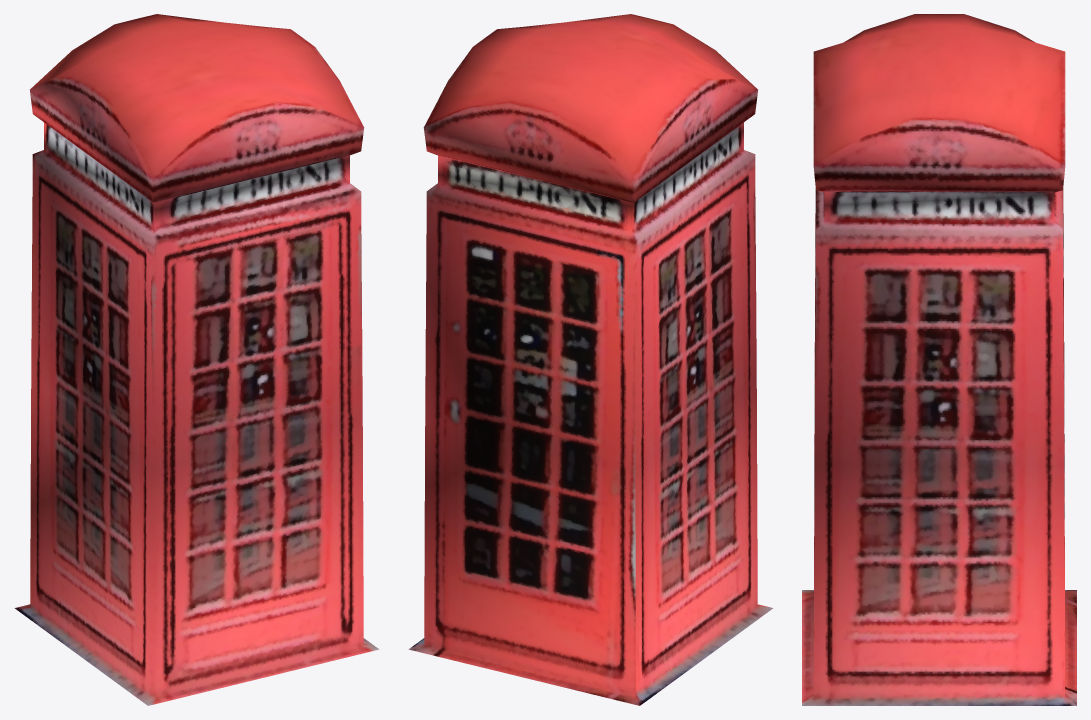
The model's file is phone box.fbx.
3 renders of one model, left to right at view 1: azimuth 30°, elevation 25°; view 2: azimuth 150°, elevation 25°; view 3: azimuth 270°, elevation 25°, orthographic. The views are drawn at different scales.
Parts seen in each view (by area): view 1: phonebox; view 2: phonebox; view 3: phonebox.
Boxes of the visible parts, x1,y1,x2,y2 form: phonebox: [14, 14, 379, 705]; phonebox: [408, 14, 773, 705]; phonebox: [802, 14, 1076, 705].
Size of the model in its own units: 36.31 by 87.25 by 36.31.
1 material, 1 textured.
